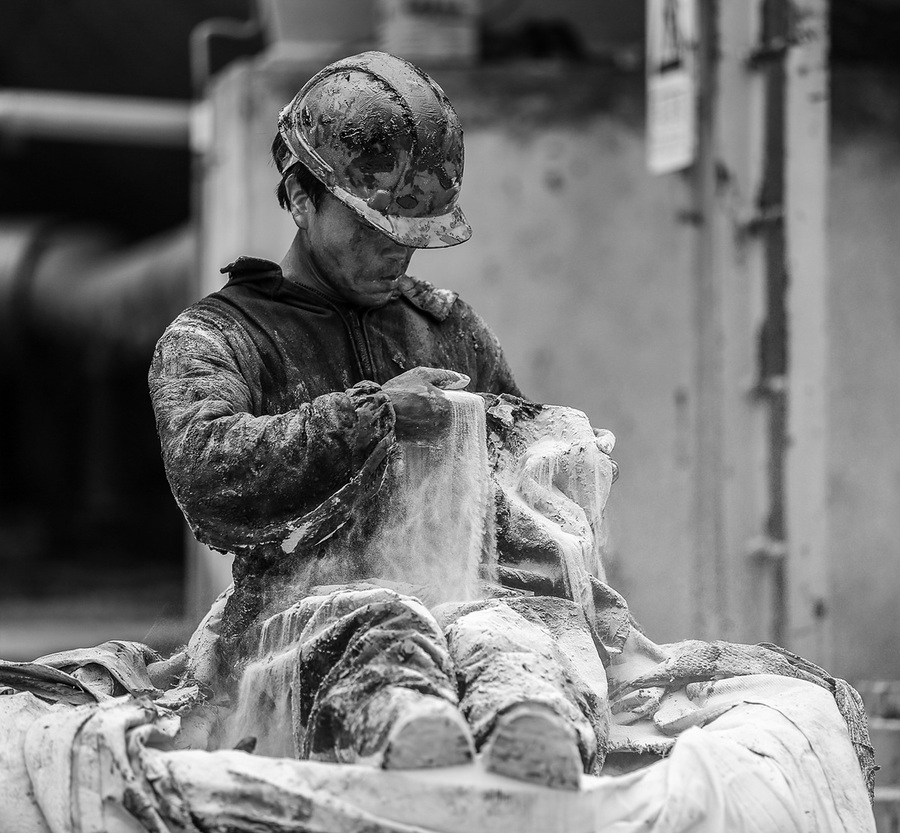safetyhat: (160, 51, 581, 621)
